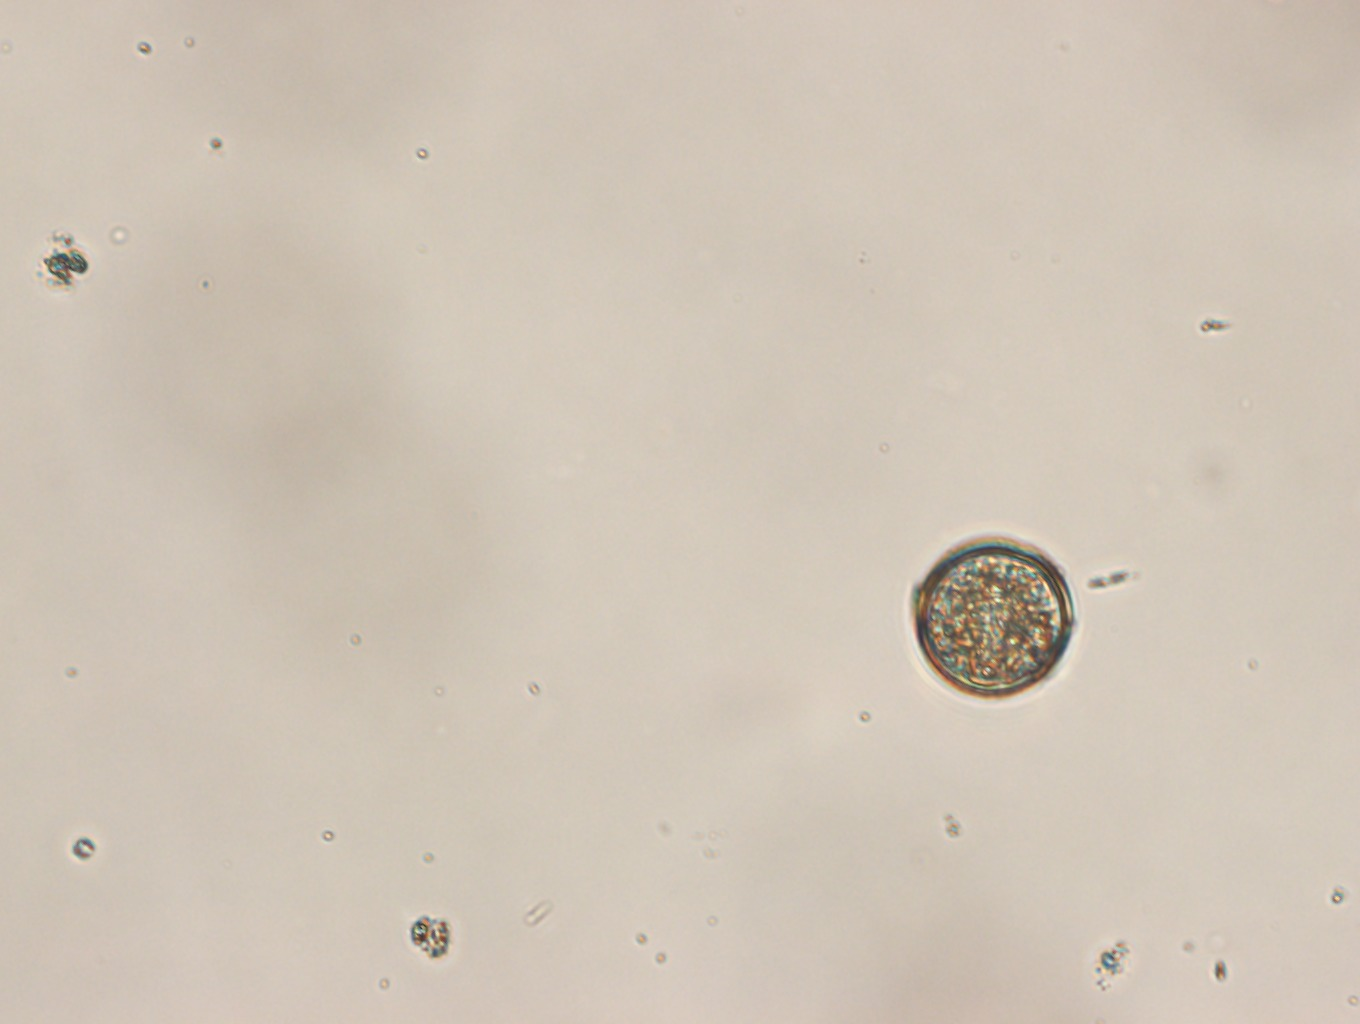coscinodiscus: (912, 535, 1075, 701)
